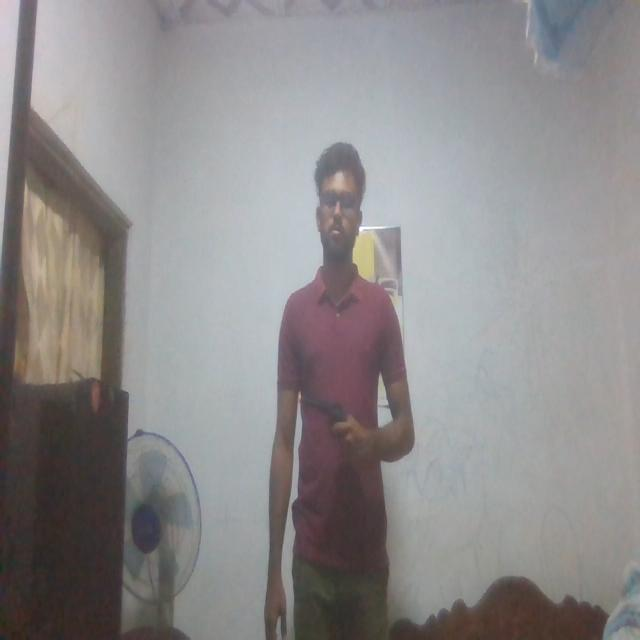Gun_Holder: (297, 386, 365, 466)
Person: (261, 140, 419, 640)
